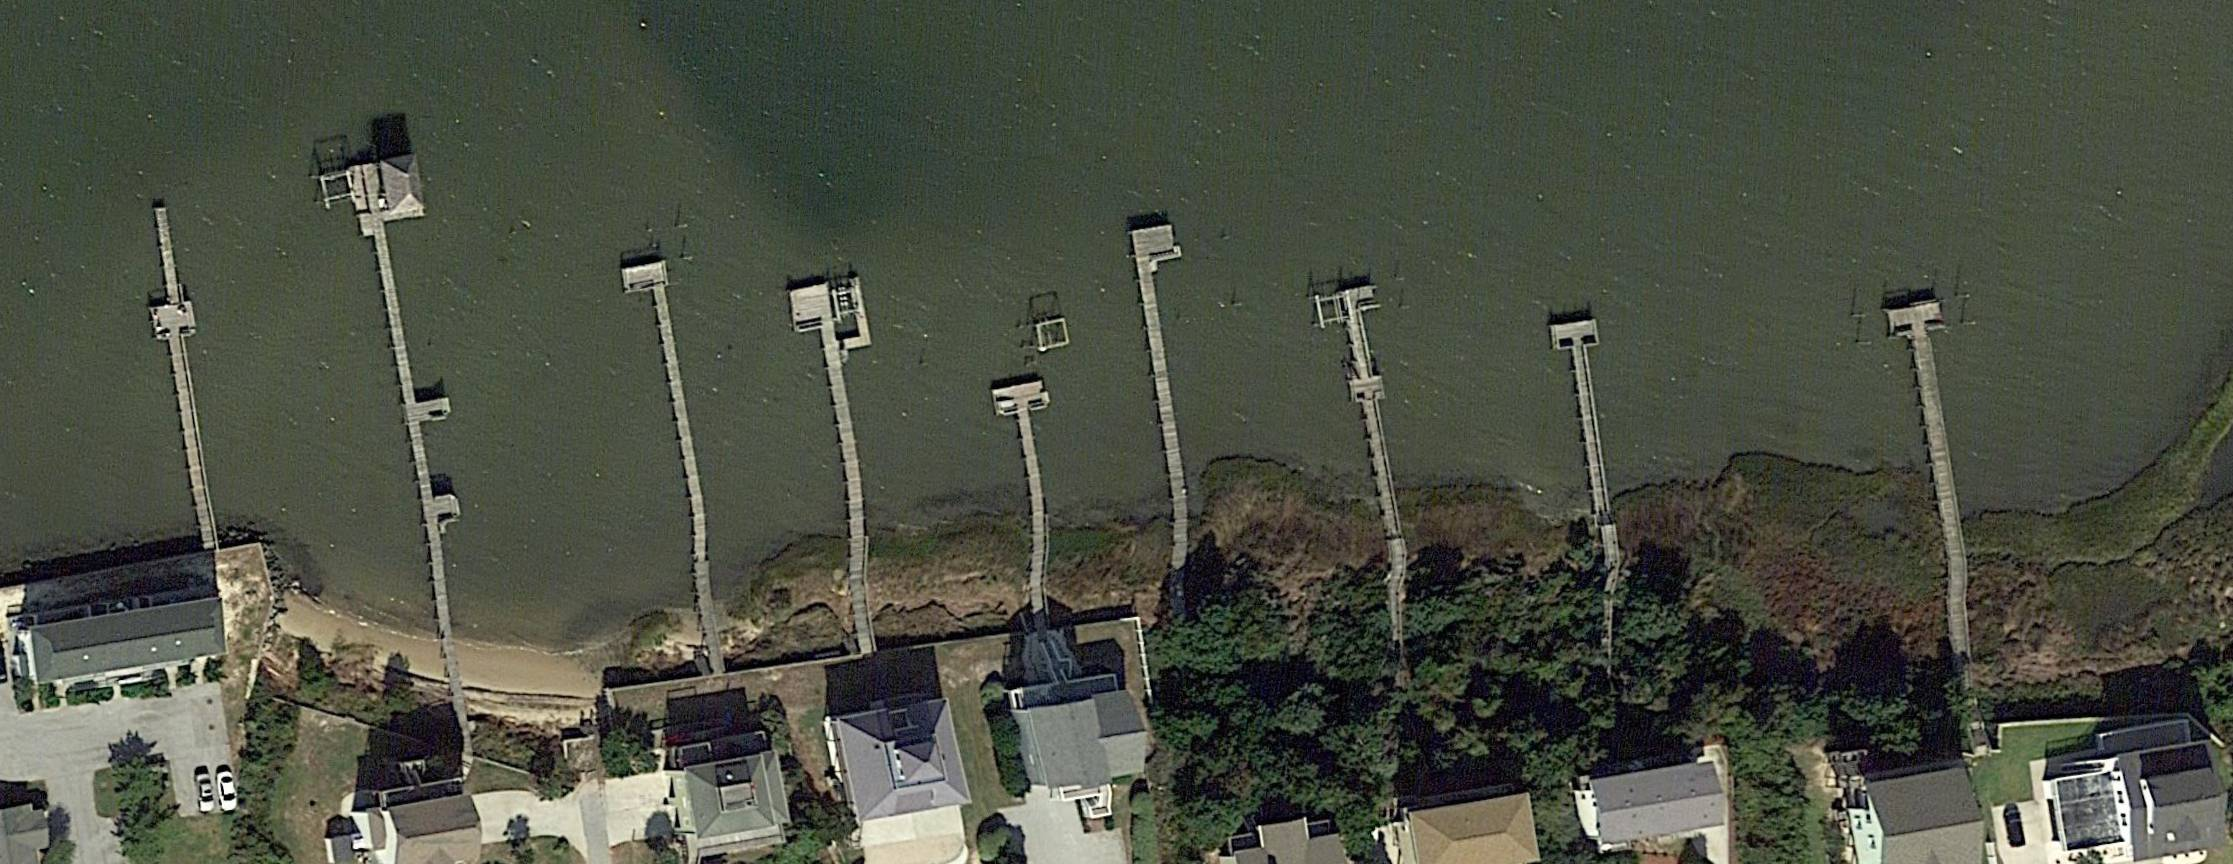harbor: (346, 152, 494, 597), (787, 276, 911, 624), (621, 261, 726, 605), (134, 202, 231, 555), (1129, 225, 1221, 524), (1886, 302, 1984, 566), (1341, 284, 1424, 545), (1549, 319, 1631, 550), (991, 381, 1079, 589)
small vehicle: (215, 772, 240, 813), (195, 772, 219, 813)
